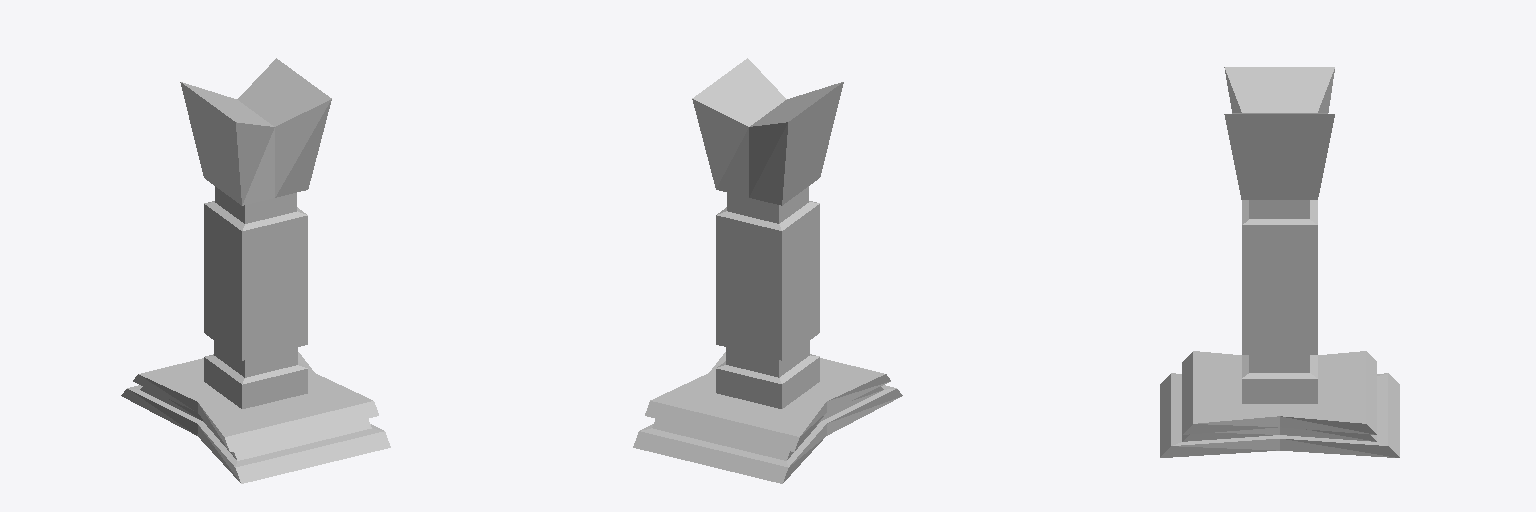
The model's file is pilierTrain.obj.
The picture shows the model from 3 angles: view 1: azimuth 30°, elevation 25°; view 2: azimuth 150°, elevation 25°; view 3: azimuth 270°, elevation 25°; orthographic projection.
Visible parts, largest first — view 1: Cube; view 2: Cube; view 3: Cube.
Boxes of the visible parts, <box> form: Cube: <box>121,58,390,483</box>; Cube: <box>633,58,902,483</box>; Cube: <box>1160,67,1399,457</box>.
Bounding box in the file's own units: 2 × 4.24 × 2.79.